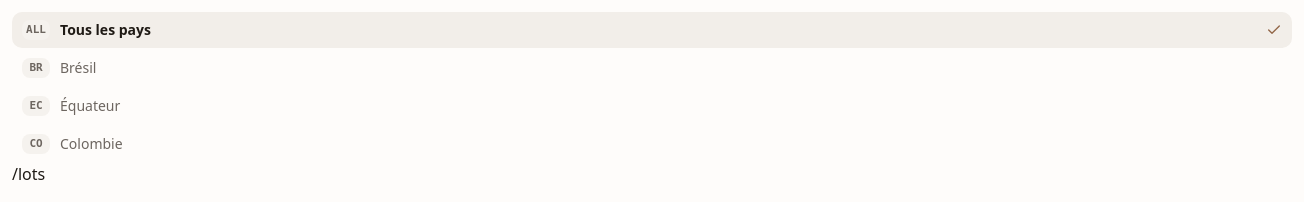
Scenario: SidebarCountryNav › should set the country query param in place on a list route
Click the button "EC Équateur": {"x": 90, "y": 106} [12,88,1292,124]
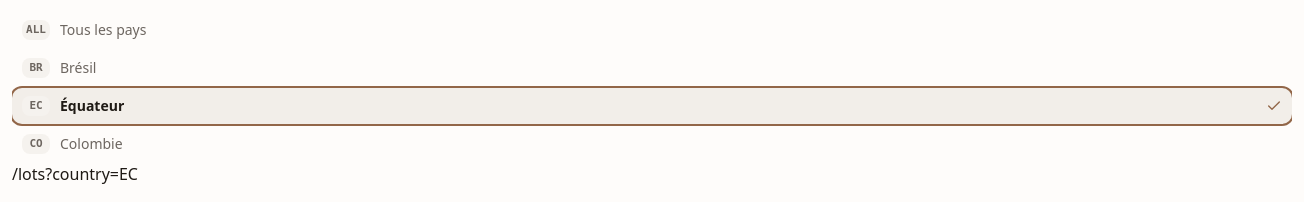
Result: the text with test id "location" reads "/lots?country=EC" at [12,163,138,185]
